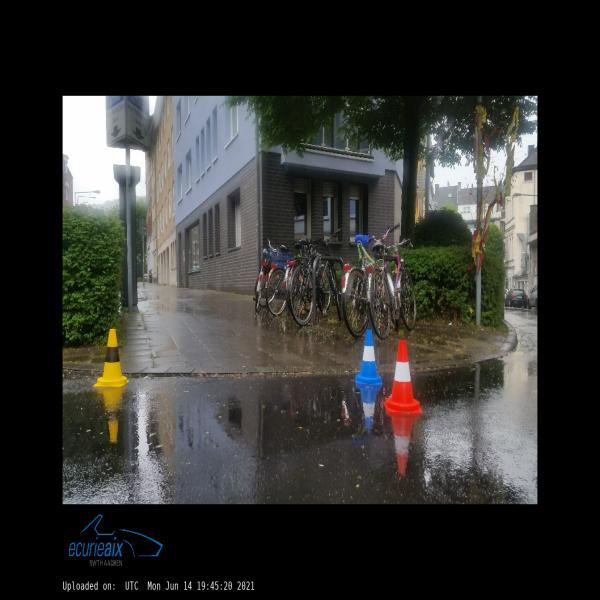blue_cone: (355, 330, 382, 384)
orange_cone: (384, 341, 422, 414)
yellow_cone: (93, 329, 129, 387)
